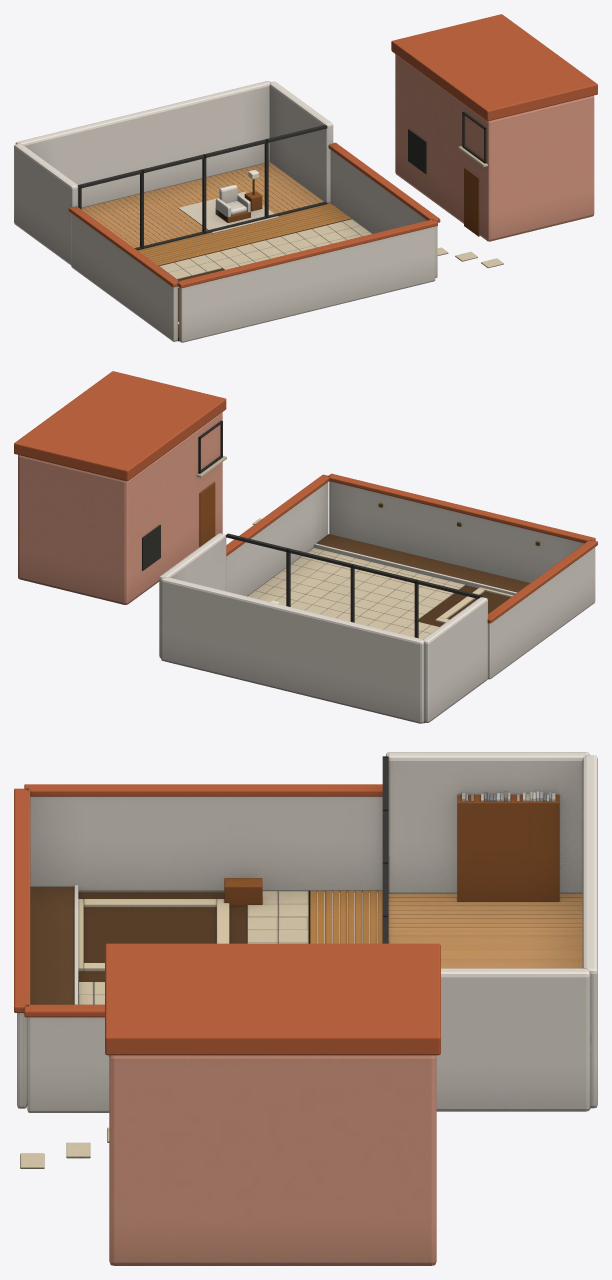
The model's file is valora-house.glb.
3 views of the same model, one above another, from view 1: azimuth 30°, elevation 25°; view 2: azimuth 150°, elevation 25°; view 3: azimuth 270°, elevation 25° (orthographic). The views are drawn at different scales.
Visible parts, largest first — view 1: valora-house; view 2: valora-house; view 3: valora-house.
Part boxes in pixels (x1=…): valora-house: x1=14, y1=14, x2=597, y2=342; valora-house: x1=14, y1=371, x2=597, y2=723; valora-house: x1=14, y1=752, x2=597, y2=1265.
Bounding box in the file's own units: 17.64 × 5.45 × 11.41.
Materials: 13 (13 with a texture image).
